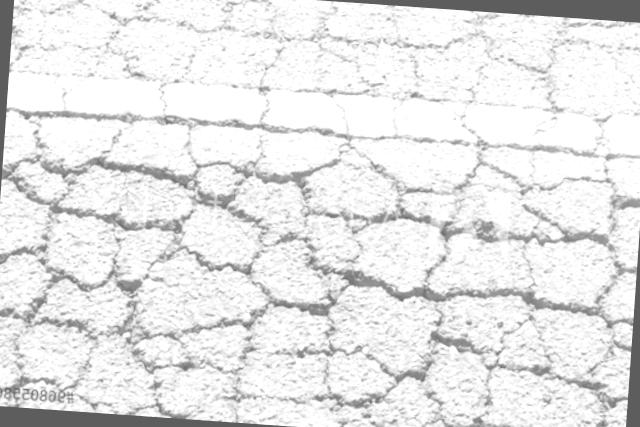Pothole: (15, 46, 632, 400)
